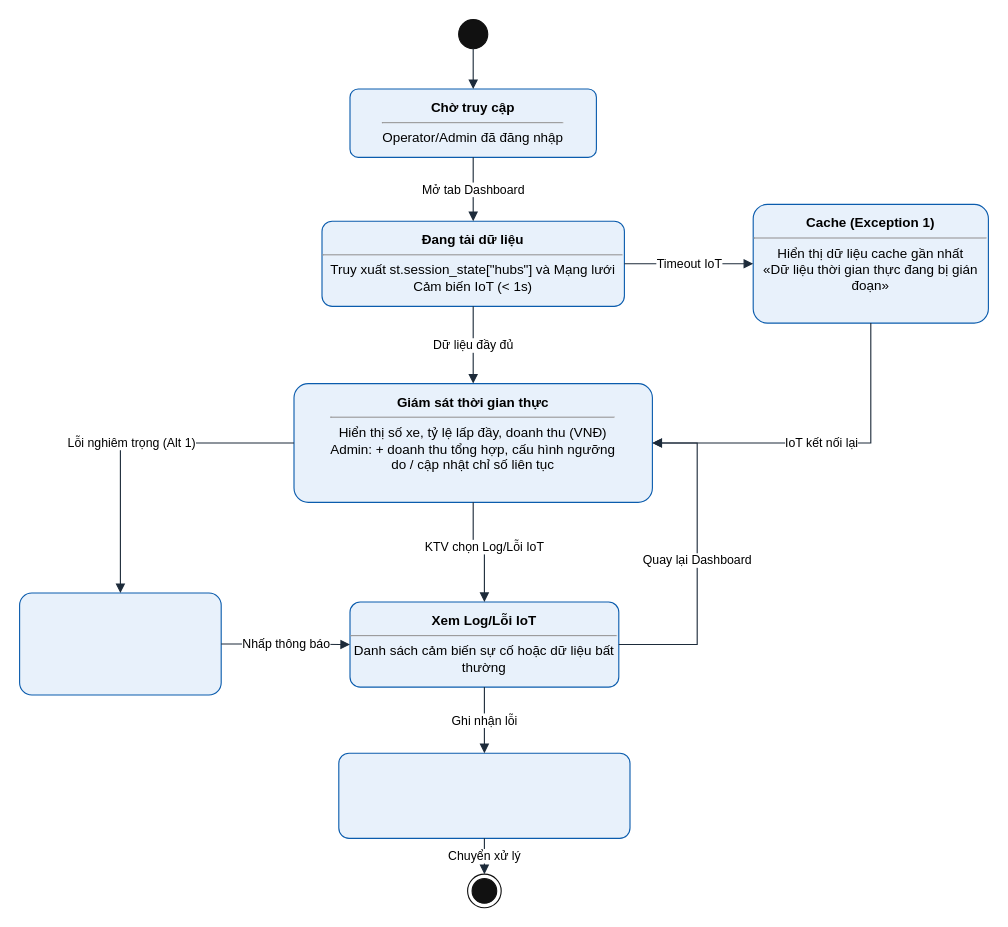
Some shapes in this 1008 by 927 pixel diagram are drawn without their labels. The centre of each missing label's shape, as x and y in pixels:
Cảnh báo lỗi IoT entry / push notification tới Kỹ thuật viên online: the point at 119,643
Đã ghi nhận lỗi Ghi nhận vị trí Hub, loại cảm biến; lên phương án bảo trì: the point at 484,795
